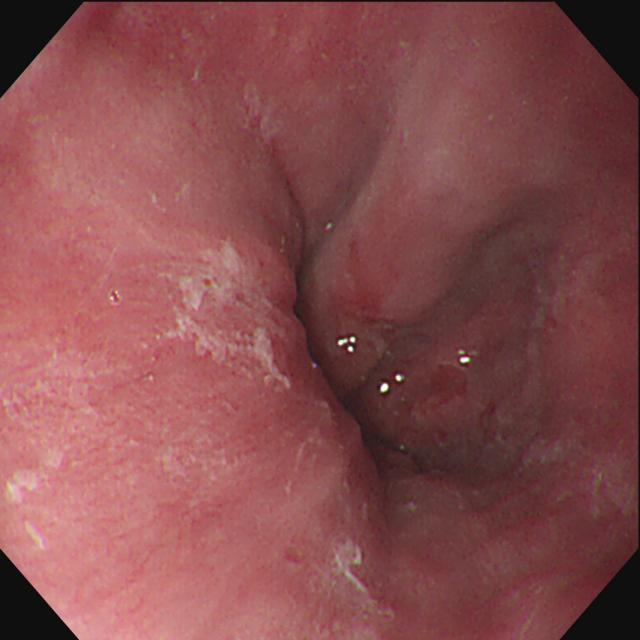J: (157, 233, 290, 389), (4, 344, 123, 492), (322, 498, 373, 602), (153, 425, 240, 480), (284, 399, 332, 496), (22, 520, 46, 552)
U: (337, 335, 358, 355), (460, 350, 473, 365), (379, 382, 390, 397), (395, 375, 406, 384)
